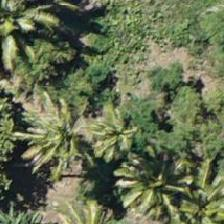coconut_tree: (15, 88, 105, 178), (139, 141, 223, 223), (0, 0, 45, 63)
